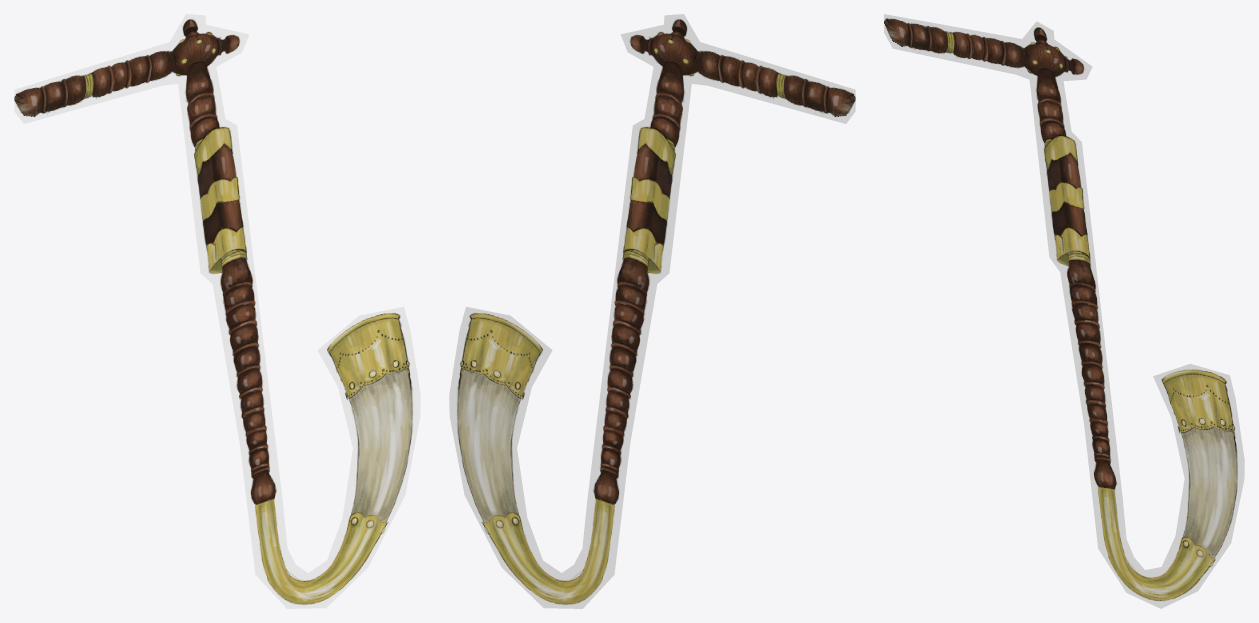
3 views of the same model, side by side, from view 1: azimuth 30°, elevation 25°; view 2: azimuth 150°, elevation 25°; view 3: azimuth 330°, elevation 25° (orthographic). The views are drawn at different scales.
Parts seen in each view (by area): view 1: Plane; view 2: Plane; view 3: Plane.
Boxes of the visible parts, left/top/right/bottom form: Plane: left=14, top=14, right=420, bottom=608; Plane: left=449, top=14, right=855, bottom=608; Plane: left=884, top=14, right=1244, bottom=608.
Size of the model in its own units: 2.54 by 3.75 by 0.
1 material, 1 textured.
